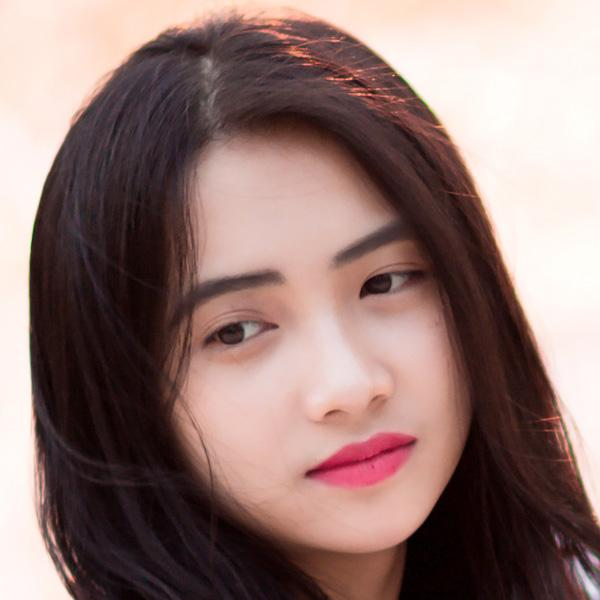Eyes: (192, 299, 286, 365), (347, 246, 433, 315)
